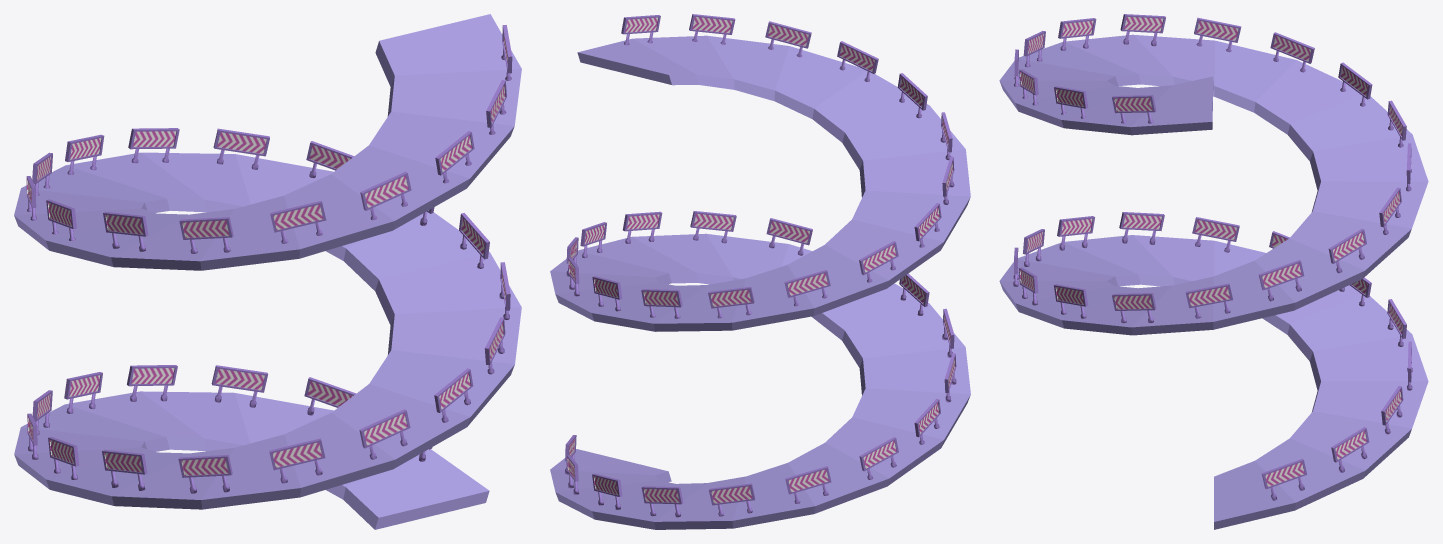
The model's file is modulo redondo.fbx.
The picture shows the model from 3 angles, left to right: view 1: azimuth 30°, elevation 25°; view 2: azimuth 150°, elevation 25°; view 3: azimuth 270°, elevation 25°; orthographic projection. The views are drawn at different scales.
Visible parts, largest first — view 1: Sphere.002, Cube.003, Cube.011, Cube.019, Cube.010, Cube.027, Cube.026, Cube.012, Cube.004, Cube.028, Cube.020, Cube.009 (+12 smaller); view 2: Sphere.002, Cube.005, Cube.013, Cube.014, Cube.006, Cube.021, Cube.029, Cube.022, Cube.030, Cube.004, Cube.028, Cube.020 (+11 smaller); view 3: Sphere.002, Cube.016, Cube.008, Cube, Cube.009, Cube.017, Cube.024, Cube.025, Cube.015, Cube.023, Cube.031, Cube.002 (+11 smaller).
Part boxes in pixels (bbox=[...]): Sphere.002: bbox=[14, 14, 521, 529]; Cube.003: bbox=[211, 365, 268, 407]; Cube.011: bbox=[269, 438, 325, 483]; Cube.019: bbox=[213, 128, 269, 169]; Cube.010: bbox=[178, 455, 232, 493]; Cube.027: bbox=[270, 201, 326, 243]; Cube.026: bbox=[179, 217, 233, 253]; Cube.012: bbox=[359, 409, 410, 459]; Cube.004: bbox=[127, 365, 177, 401]; Cube.028: bbox=[360, 171, 411, 220]; Cube.020: bbox=[128, 128, 179, 163]; Cube.009: bbox=[102, 449, 147, 490]; Sphere.002: bbox=[550, 35, 970, 529]; Cube.005: bbox=[708, 483, 755, 516]; Cube.013: bbox=[766, 218, 812, 255]; Cube.014: bbox=[690, 211, 736, 243]; Cube.006: bbox=[785, 466, 831, 503]; Cube.021: bbox=[708, 287, 754, 318]; Cube.029: bbox=[765, 21, 811, 57]; Cube.022: bbox=[784, 270, 830, 306]; Cube.030: bbox=[689, 14, 735, 44]; Cube.004: bbox=[641, 486, 683, 517]; Cube.028: bbox=[837, 41, 878, 81]; Cube.020: bbox=[641, 289, 682, 318]; Sphere.002: bbox=[999, 34, 1428, 529]; Cube.016: bbox=[1185, 283, 1232, 318]; Cube.008: bbox=[1192, 217, 1239, 252]; Cube: bbox=[1261, 458, 1306, 500]; Cube.009: bbox=[1119, 212, 1164, 244]; Cube.017: bbox=[1258, 260, 1304, 301]; Cube.024: bbox=[1194, 17, 1241, 52]; Cube.025: bbox=[1120, 14, 1165, 46]; Cube.015: bbox=[1112, 293, 1156, 323]; Cube.023: bbox=[1270, 32, 1314, 72]; Cube.031: bbox=[1112, 95, 1156, 123]; Cube.002: bbox=[1331, 427, 1369, 472].
Bounding box in the file's own units: 4343 × 4767 × 4343.
Materials: 2 (1 with a texture image).
